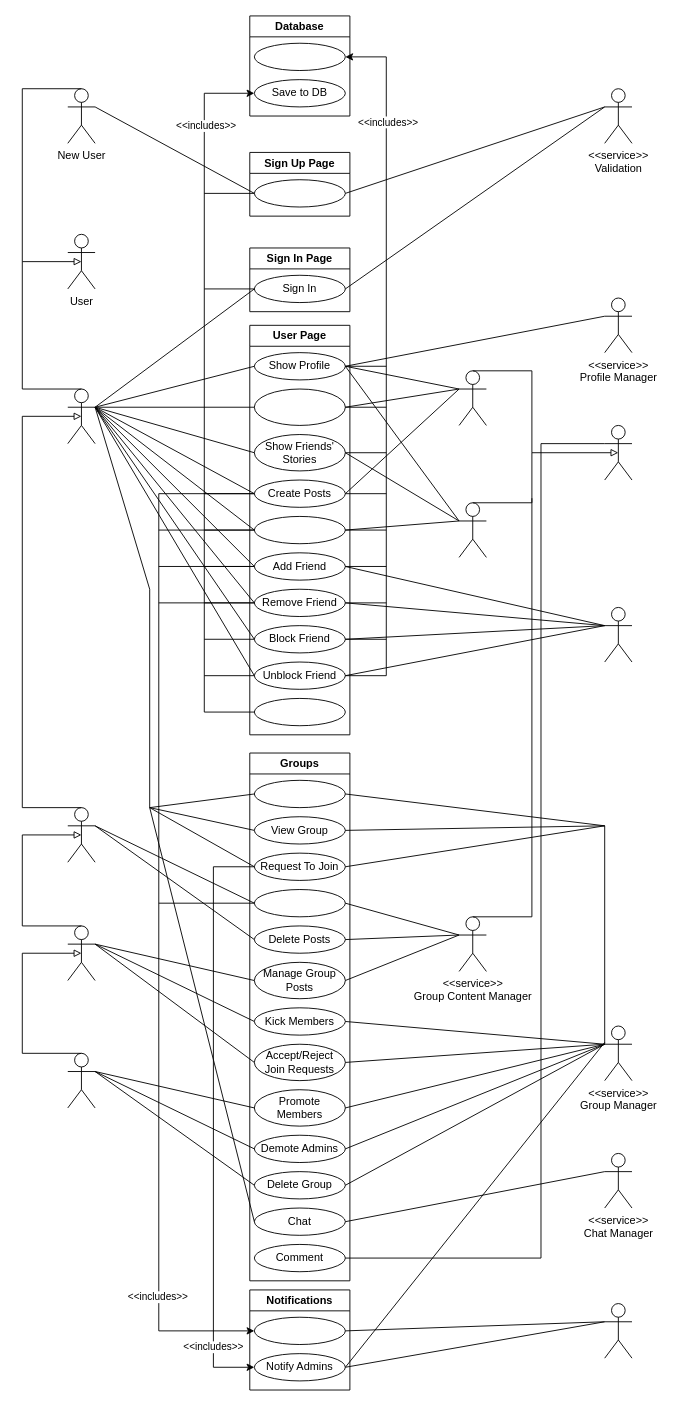
The diagram is 687 pixels wide and 1407 high, and some of its shapes have lost their labels. Each missing label, with the box of its shape:
<<service>> Content Manager: (604, 425, 632, 480)
<<service>> Friends Manager: (604, 607, 632, 662)
<<service>> Notifications Manager: (604, 1303, 632, 1358)
<<service>> Posts Manager: (458, 370, 486, 425)
<<service>> Stories Manager: (458, 502, 486, 557)
Admin: (67, 925, 95, 981)
Create Group: (253, 779, 345, 808)
Create Stories: (253, 516, 345, 544)
Log Out: (253, 698, 345, 726)
Member: (67, 807, 95, 862)
Notify Friends: (253, 1316, 345, 1345)
Old User: (67, 388, 95, 444)
Post To Group: (253, 889, 345, 917)
Primary Admin: (67, 1052, 95, 1108)
Read DB: (253, 42, 345, 71)
Show Friends' Posts: (253, 388, 345, 425)
Sign Up: (253, 179, 345, 207)
